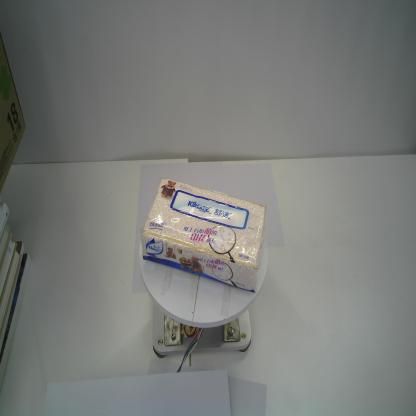Tissue: (138, 176, 268, 292)
